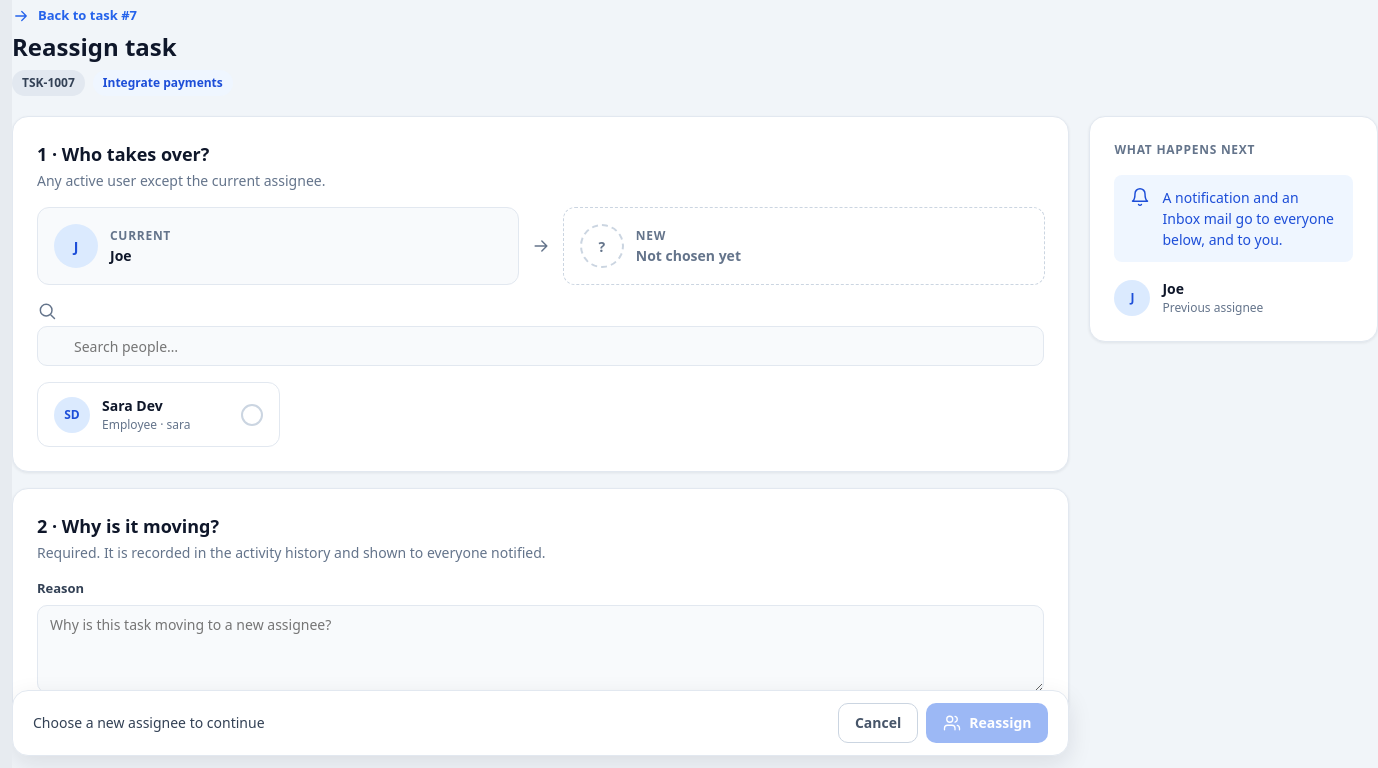
Test: TaskReassignComponent › picks the new assignee from the cards and shows who will be notified
Click the radio button labelled "SD Sara Dev Employee · sara" at (158, 414), box [37,382,280,447]
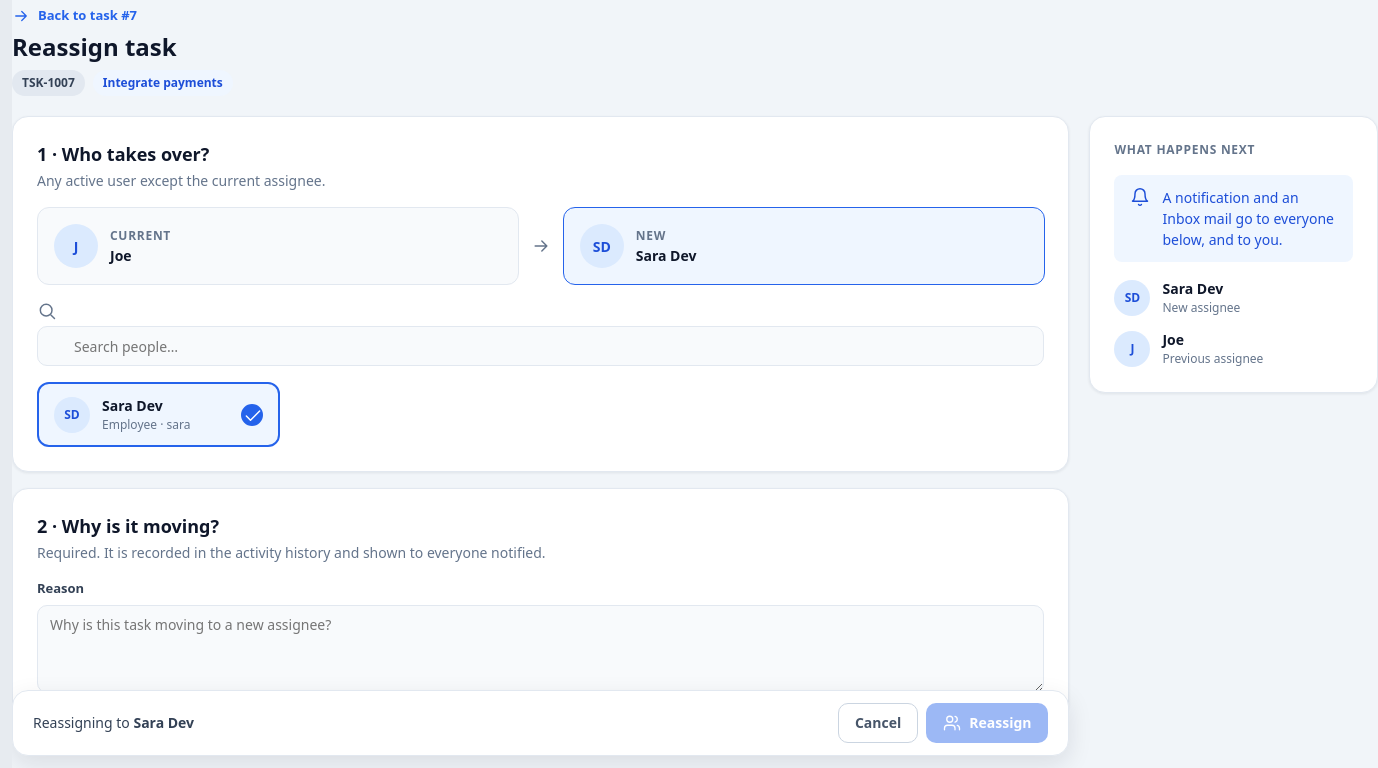
Expected: the element showing "SD New Sara Dev" is shown, [563,207,1045,285]
Expected: the list shows "Sara Dev", [1162,279,1223,298]
Expected: the list shows "New assignee", [1162,299,1240,316]
